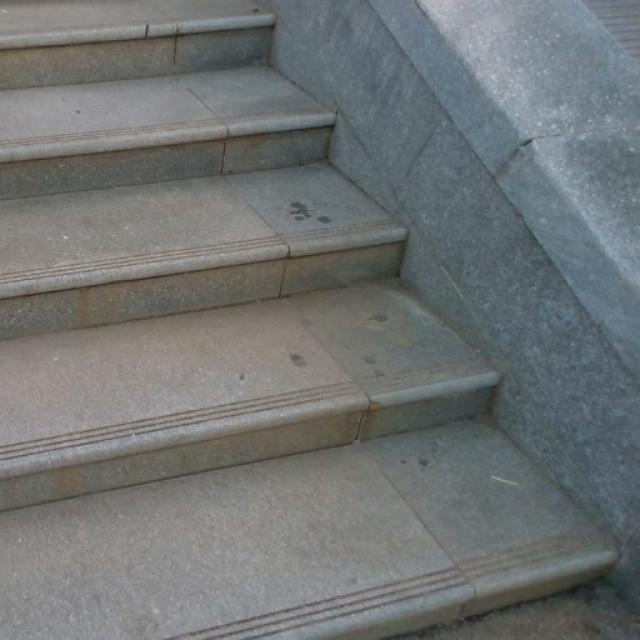Stairs: (0, 0, 620, 639)
